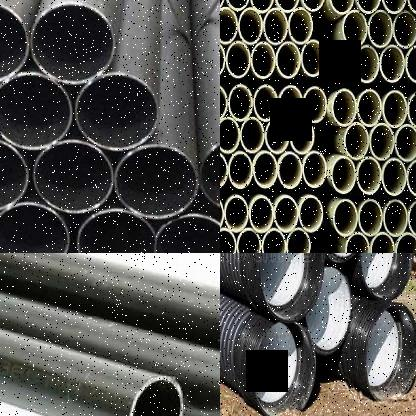pipe: (30, 2, 115, 84), (76, 73, 158, 151), (32, 140, 113, 214), (253, 322, 316, 416), (0, 72, 73, 151), (365, 303, 416, 401), (259, 253, 324, 322), (304, 264, 353, 354), (0, 202, 70, 253), (76, 208, 155, 253), (155, 213, 220, 253), (360, 253, 414, 300), (127, 373, 185, 416), (0, 2, 30, 83), (0, 137, 28, 211), (199, 137, 220, 211), (342, 10, 368, 48), (332, 88, 357, 127), (368, 10, 393, 48), (354, 45, 379, 83), (382, 90, 407, 128), (344, 122, 369, 160), (357, 157, 382, 195), (333, 199, 358, 237), (392, 10, 416, 49), (380, 44, 404, 83), (224, 195, 249, 232), (249, 196, 274, 233), (301, 40, 325, 78), (252, 42, 276, 80), (330, 43, 354, 81), (254, 84, 278, 122), (229, 84, 253, 122), (358, 89, 382, 127), (370, 122, 394, 160), (254, 151, 278, 189), (228, 151, 252, 189), (332, 156, 356, 194), (382, 158, 406, 196), (384, 199, 408, 237), (288, 7, 312, 44), (238, 7, 262, 44), (264, 8, 288, 45), (226, 41, 250, 78), (276, 41, 300, 78), (303, 151, 327, 188), (300, 195, 324, 232), (274, 196, 298, 233), (358, 199, 382, 236), (279, 152, 302, 190), (279, 86, 303, 122), (304, 86, 328, 122), (265, 118, 289, 154), (290, 118, 314, 154), (241, 117, 264, 154), (394, 124, 416, 162), (220, 117, 239, 154), (220, 7, 237, 44), (236, 228, 261, 253), (287, 227, 311, 253), (262, 228, 286, 253), (344, 232, 370, 253), (370, 232, 394, 253), (396, 232, 416, 253), (220, 228, 236, 253), (406, 45, 416, 83), (406, 159, 416, 197), (330, 0, 355, 15), (381, 0, 407, 14), (407, 91, 416, 129), (407, 199, 416, 237), (355, 0, 381, 13), (274, 0, 299, 13), (220, 151, 228, 189), (250, 0, 274, 12), (225, 0, 249, 11), (301, 0, 325, 11), (220, 84, 227, 121), (220, 40, 225, 77)
